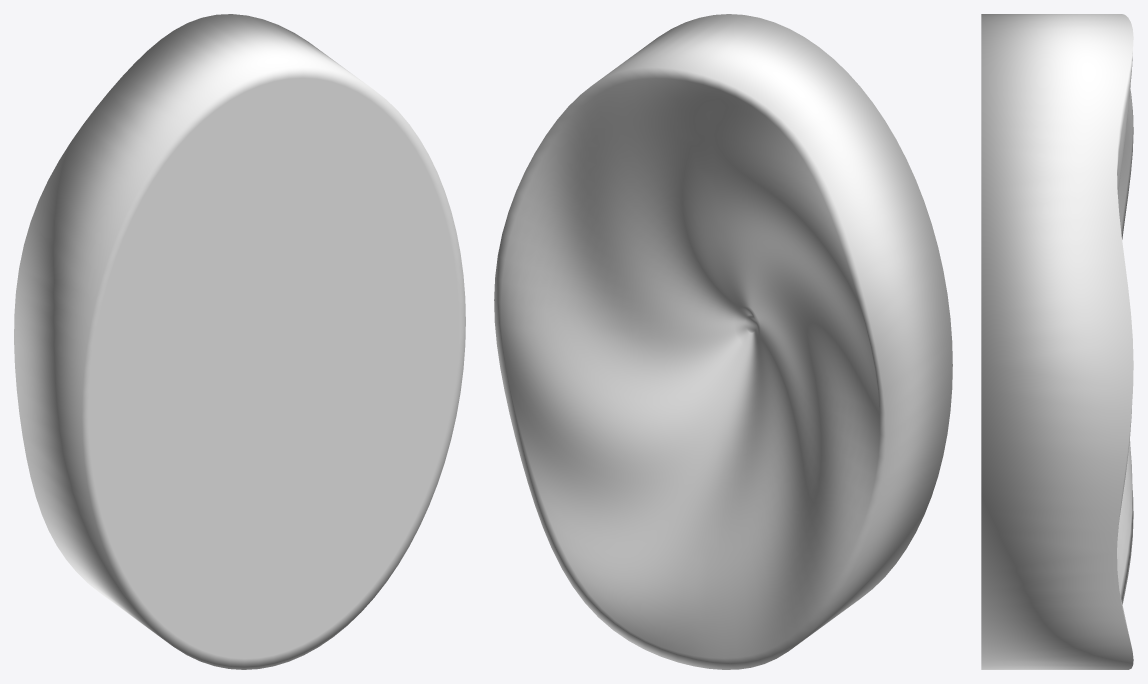
File: AlienPortalFunnel.fbx
3 views of the same model, side by side, from view 1: azimuth 30°, elevation 25°; view 2: azimuth 150°, elevation 25°; view 3: azimuth 270°, elevation 25° (orthographic). The views are drawn at different scales.
Visible parts, largest first — view 1: AlienPortalFunnel; view 2: AlienPortalFunnel; view 3: AlienPortalFunnel.
Boxes of the visible parts, left/top/right/bottom form: AlienPortalFunnel: left=14, top=14, right=465, bottom=669; AlienPortalFunnel: left=494, top=14, right=952, bottom=669; AlienPortalFunnel: left=981, top=14, right=1133, bottom=669.
Bounding box in the file's own units: 5.6 × 8.3 × 1.83.
1 material, 1 textured.
